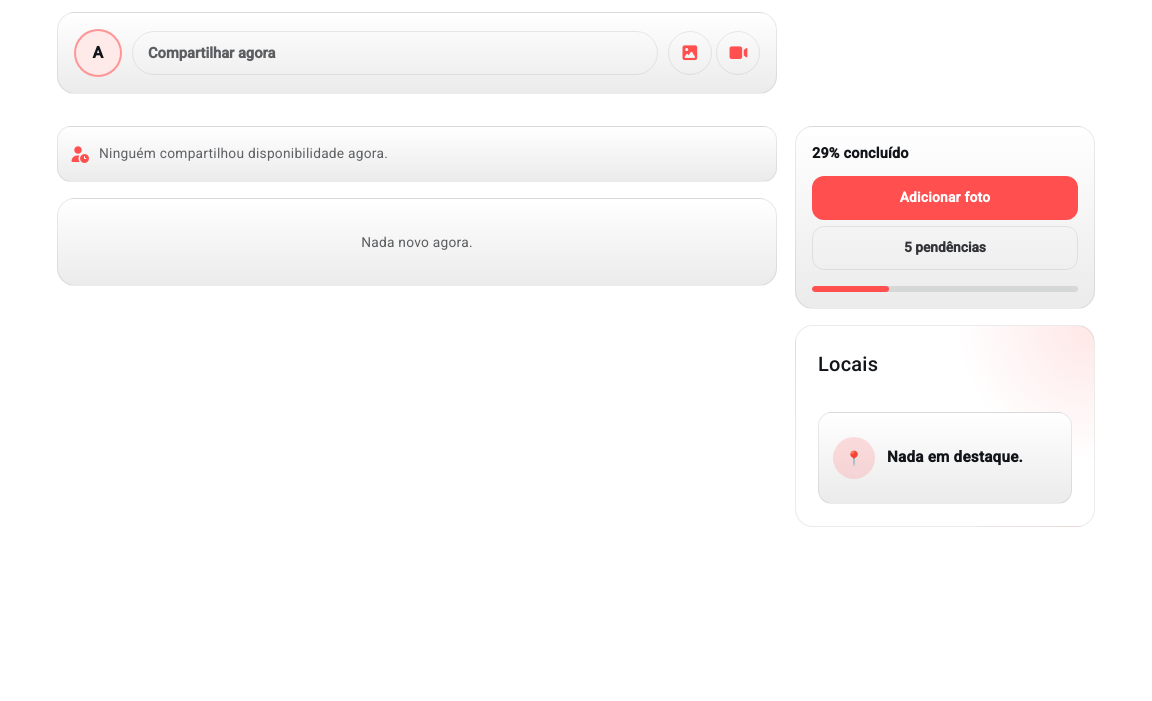
Test case: PrincipalComponent › materializa o editor de status somente quando solicitado
The width and height of the screenshot is (1152, 701).
Click the button with class "feed-create-bar__prompt".
click(212, 53)  # box [132,31,658,75]
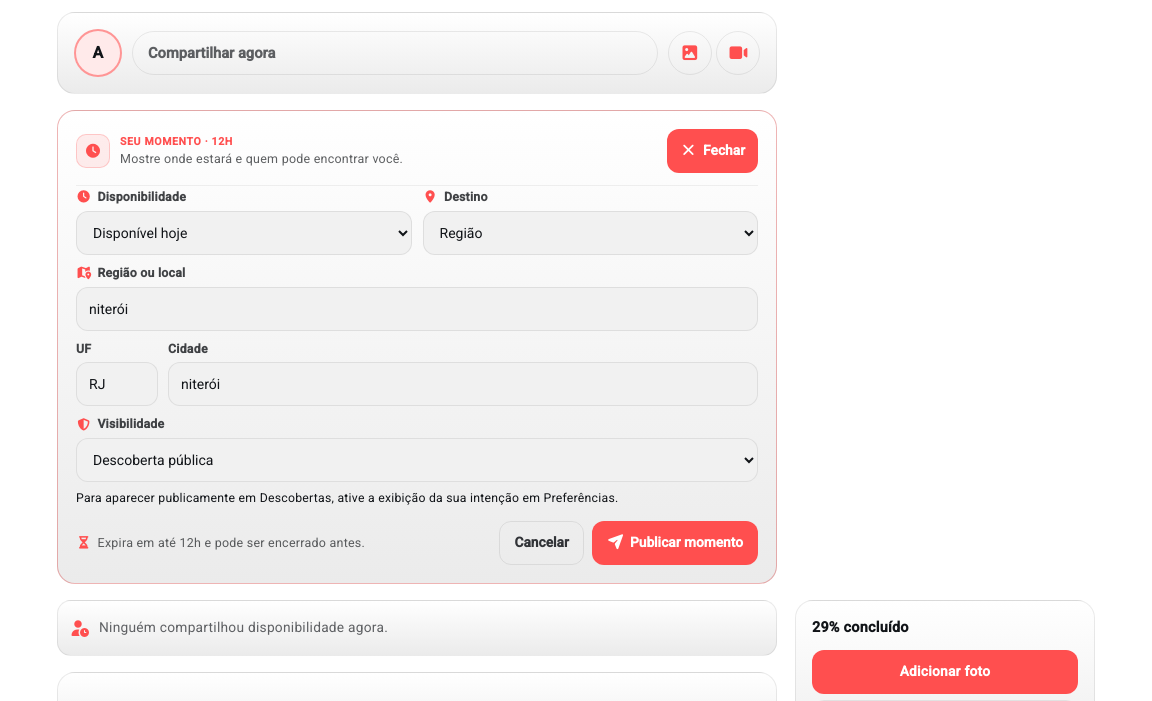
Expected: the element that starts with "Seu momento · 12h" is shown, [57,110,777,584]
